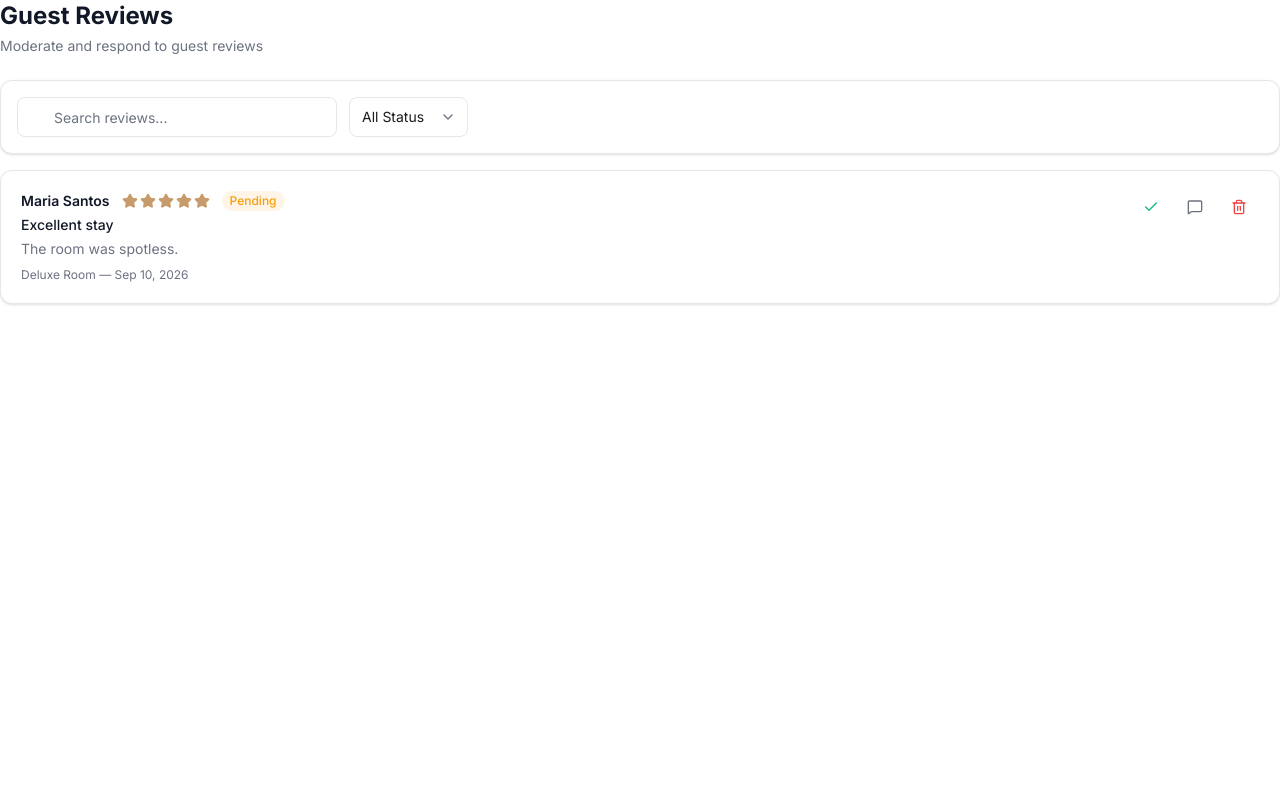
Test: ReviewsPage › opens reply modal when Reply clicked
Note: Find buttons that are icon-only (no text content) — Approve (1st), Reply (2nd), Delete (3rd)
Click the 2nd button at (1195, 207), box [1175, 191, 1215, 223]
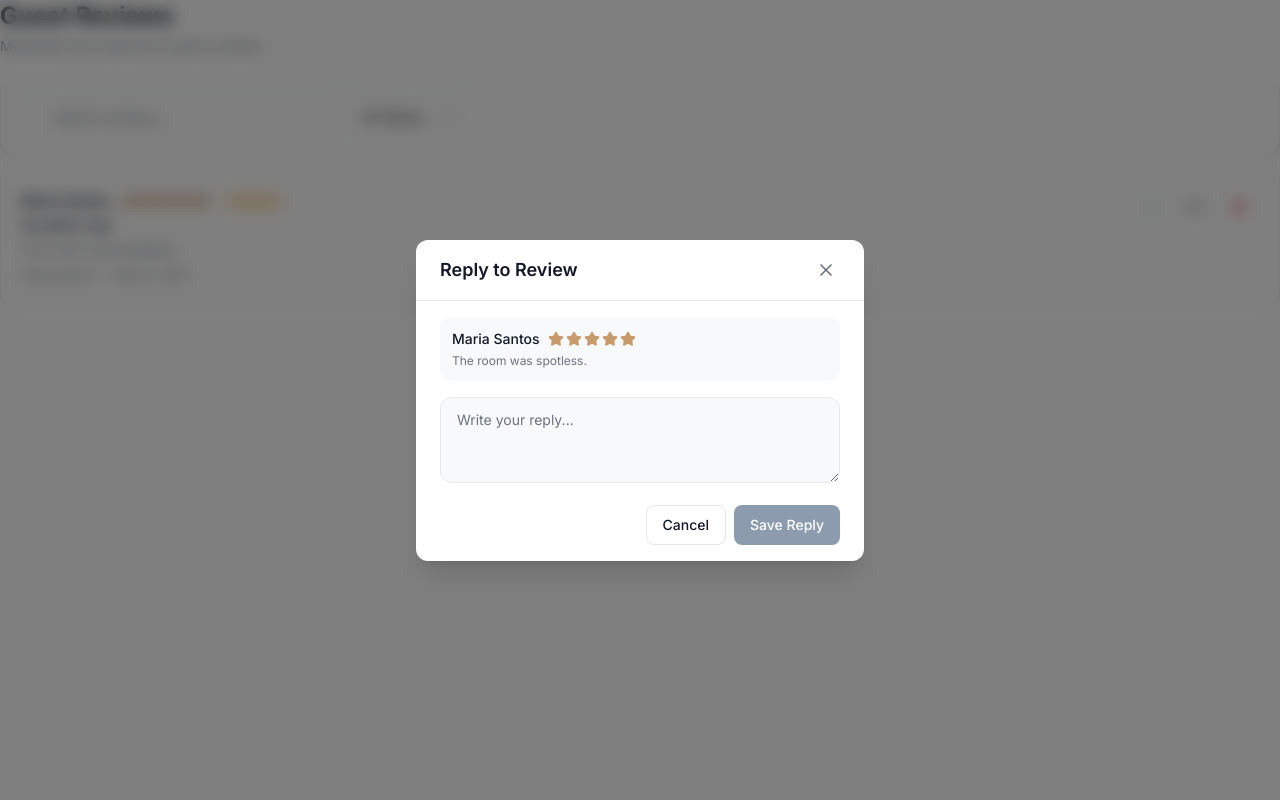
Result: the heading "Reply to Review" is shown at [440, 256, 578, 284]
